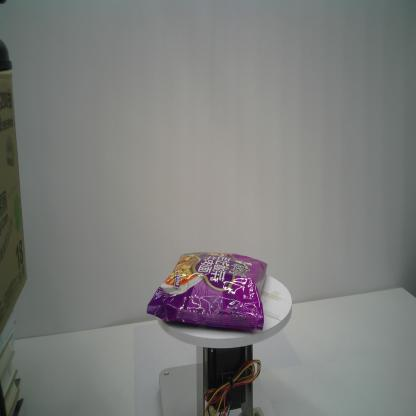Instant Noodles: (145, 251, 269, 335)
